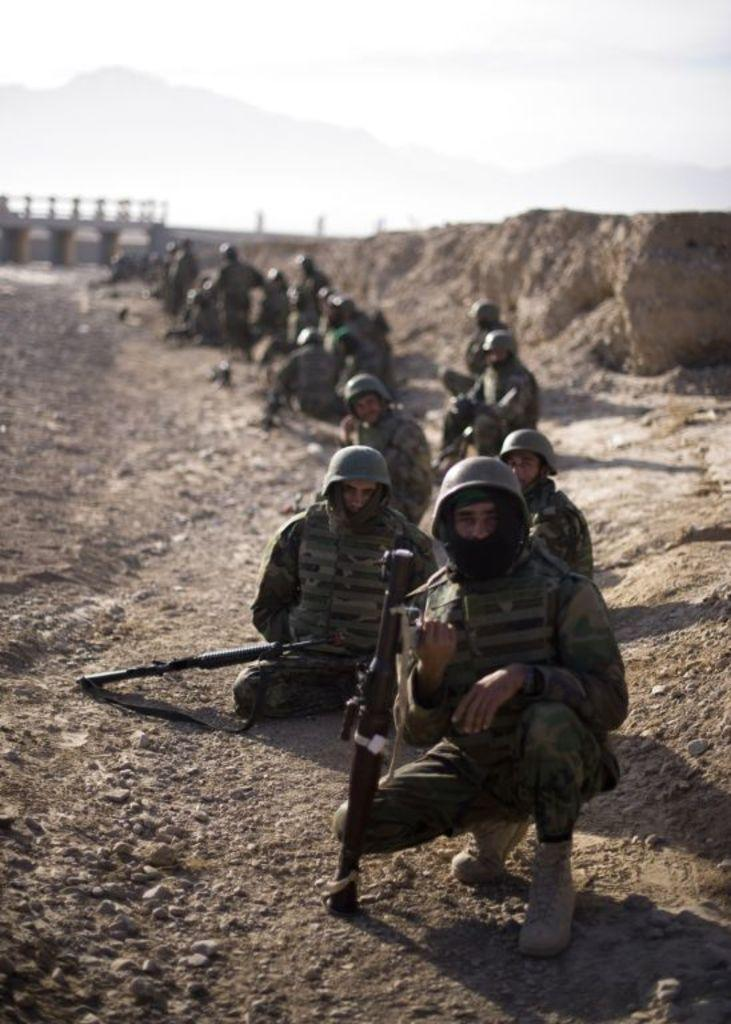Rifle: (333, 549, 424, 909)
